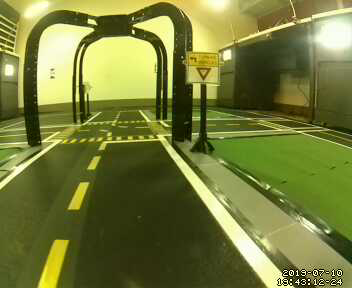Turn Yield: (185, 50, 221, 88)
